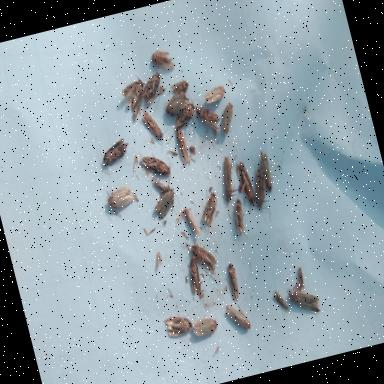pbw: (142, 176, 186, 230), (134, 57, 172, 116), (241, 162, 277, 224), (211, 150, 247, 210), (137, 144, 178, 194), (113, 71, 154, 120), (187, 236, 225, 288), (232, 158, 267, 214), (95, 132, 136, 178), (284, 280, 326, 323), (101, 178, 142, 222), (179, 244, 209, 304), (168, 96, 208, 140), (138, 104, 170, 156), (193, 189, 226, 239), (176, 200, 206, 248), (220, 296, 254, 338), (190, 99, 223, 142), (254, 144, 282, 194), (160, 306, 196, 344), (172, 123, 200, 171), (158, 84, 194, 121), (228, 194, 254, 244), (189, 312, 222, 346), (215, 98, 240, 142), (148, 40, 180, 74), (200, 79, 230, 111), (223, 260, 244, 303), (166, 74, 195, 100), (272, 288, 294, 321), (291, 262, 310, 296)
